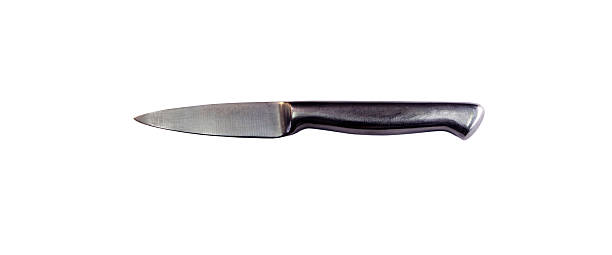knife: (130, 98, 485, 140)
